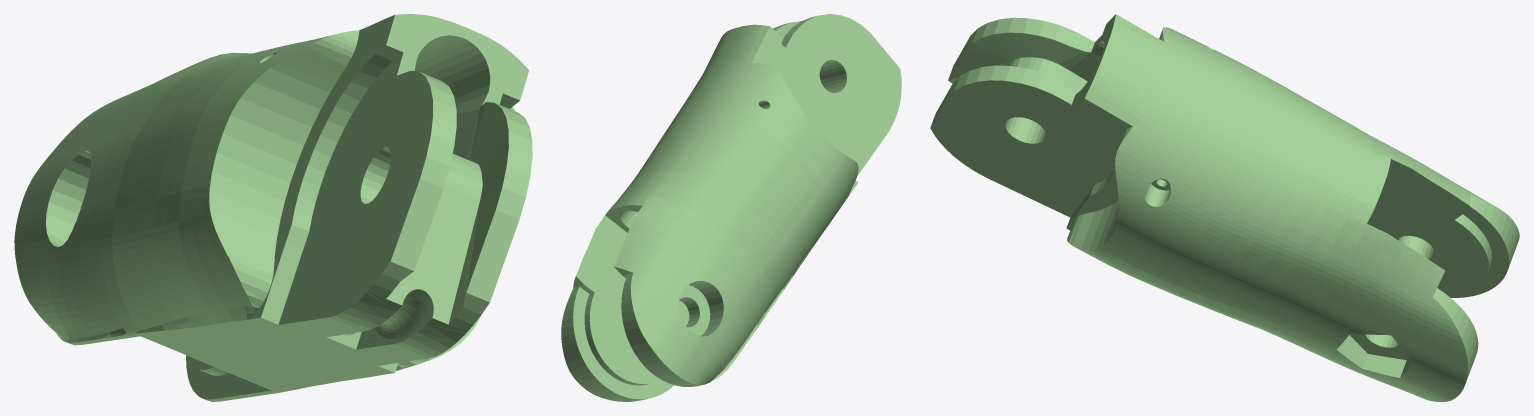
File: i02_leftHand_indexPhal_visual.obj
3 renders of one model, left to right at view 1: azimuth 30°, elevation 25°; view 2: azimuth 150°, elevation 25°; view 3: azimuth 270°, elevation 25°, orthographic. The views are drawn at different scales.
Parts seen in each view (by area): view 1: i02_leftHand_indexPhal_visual.001; view 2: i02_leftHand_indexPhal_visual.001; view 3: i02_leftHand_indexPhal_visual.001.
Part boxes in pixels (left/top/right/bottom): i02_leftHand_indexPhal_visual.001: left=14, top=14, right=532, bottom=401; i02_leftHand_indexPhal_visual.001: left=561, top=14, right=901, bottom=401; i02_leftHand_indexPhal_visual.001: left=930, top=14, right=1519, bottom=401.
Size of the model in its own units: 0.2049 by 0.3471 by 0.4992.
